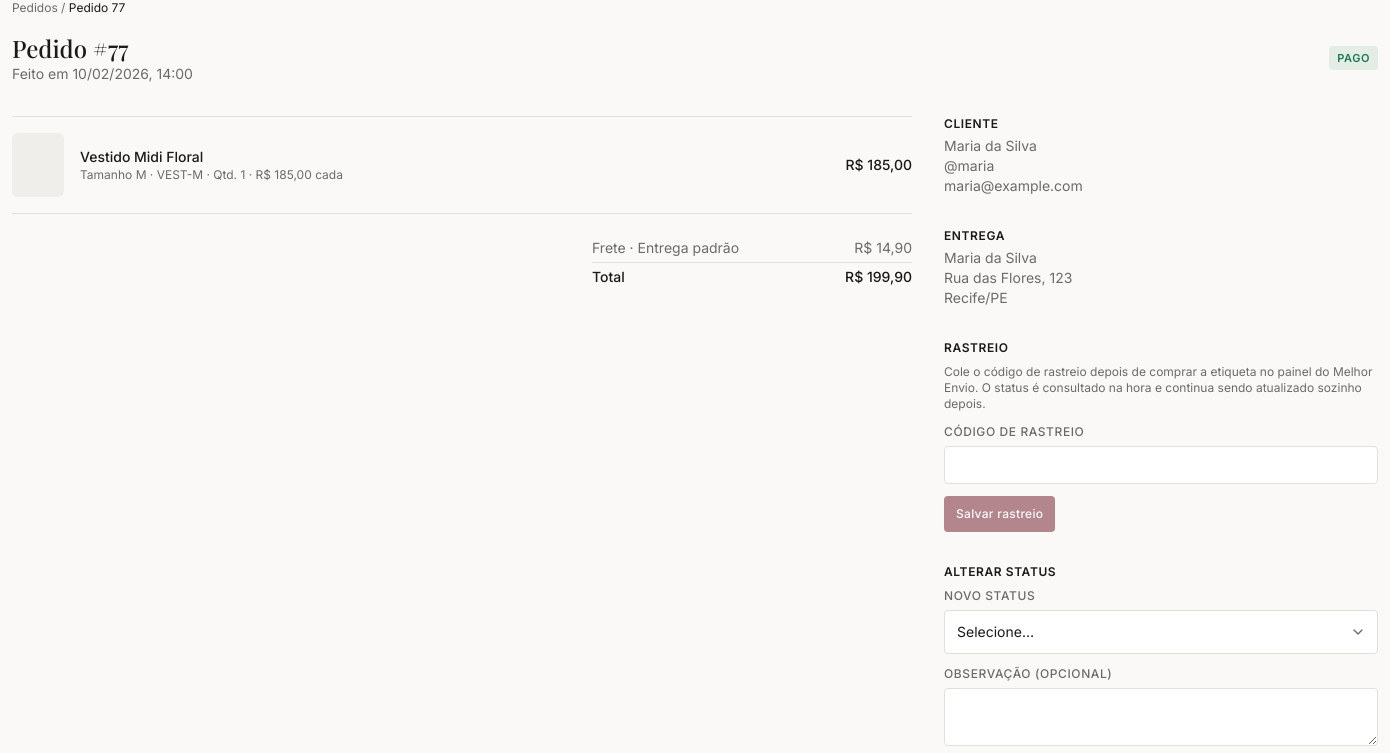
Test: AdminPedidoDetalhe › mostra o erro do backend quando a transição é inválida
Check: the heading "Pedido #77" is shown, box [12,32,128,64]
Select "Cancelado" in the dropdown labelled "Novo status" at (1161, 632), box [944,610,1378,654]
(page scrolled)
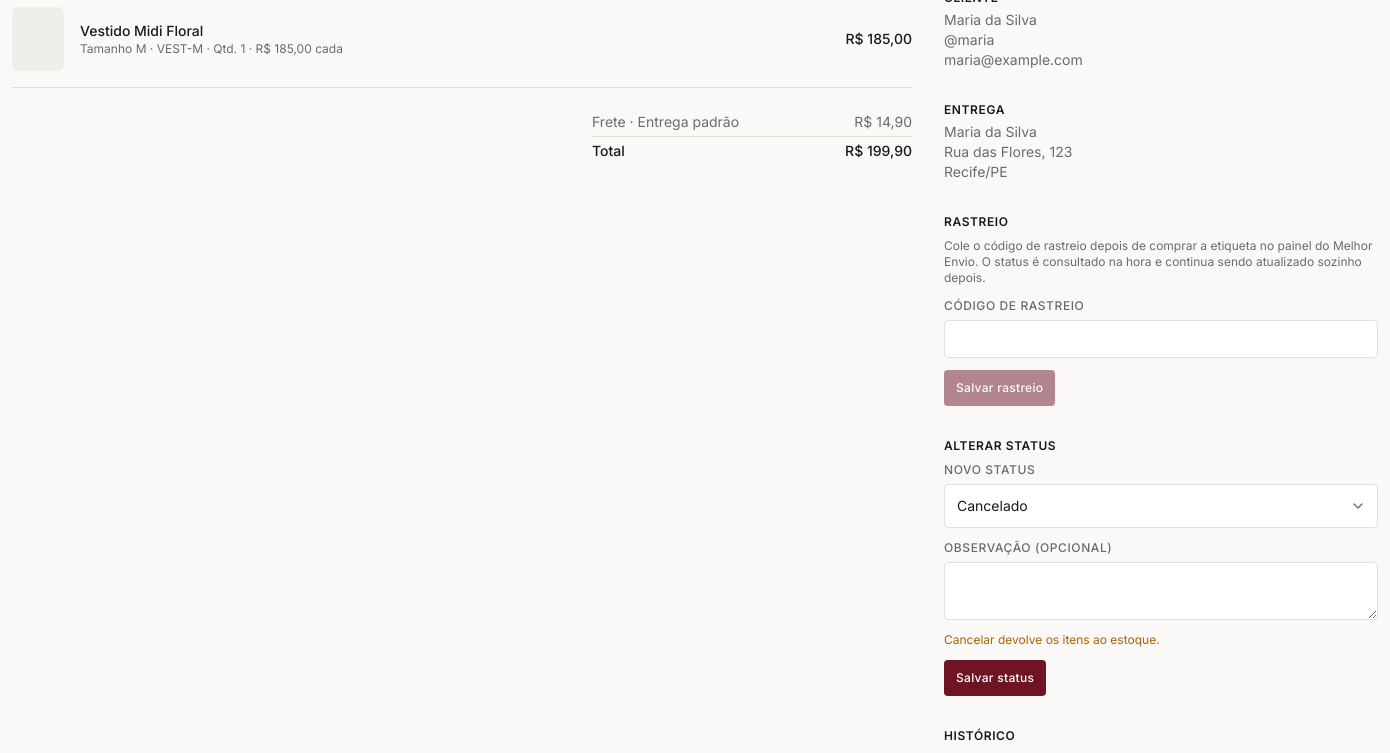
Click the button "Salvar status" at (995, 678), box [944,660,1046,696]
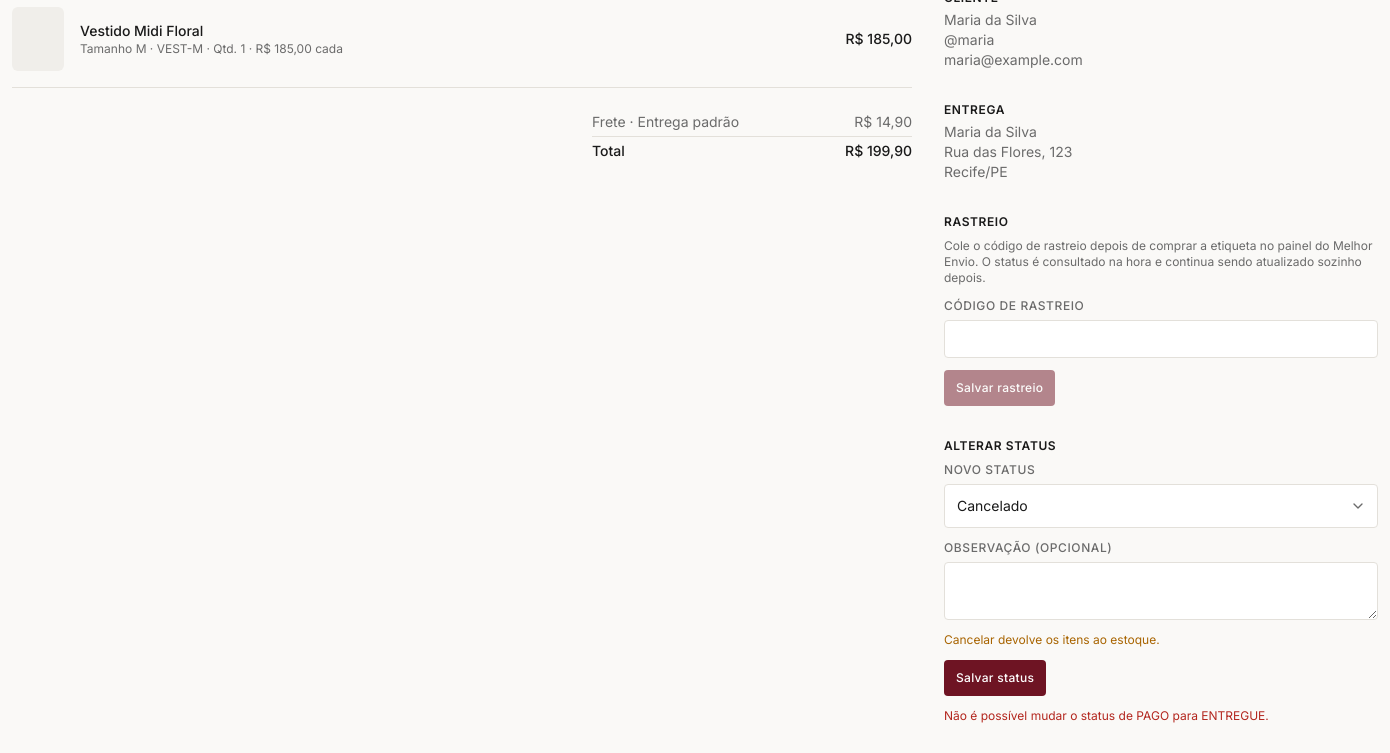
Check: the text "Não é possível mudar o status de PAGO para ENTREGUE." is shown, box [944,708,1269,723]
